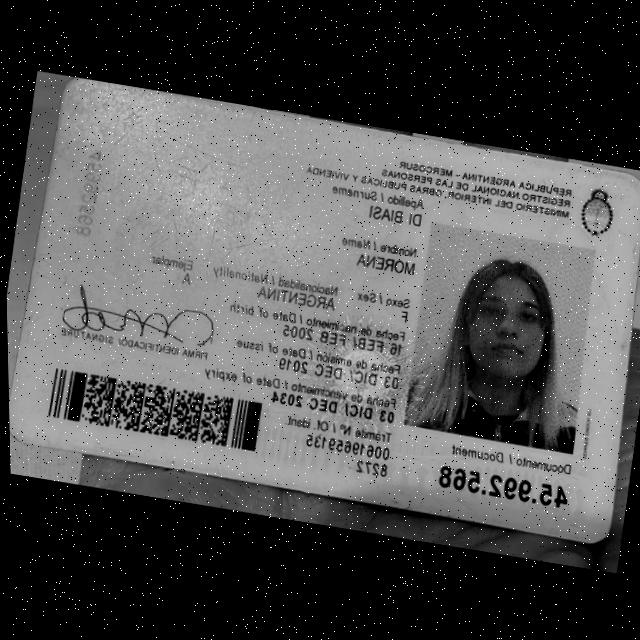card: (9, 79, 639, 542)
